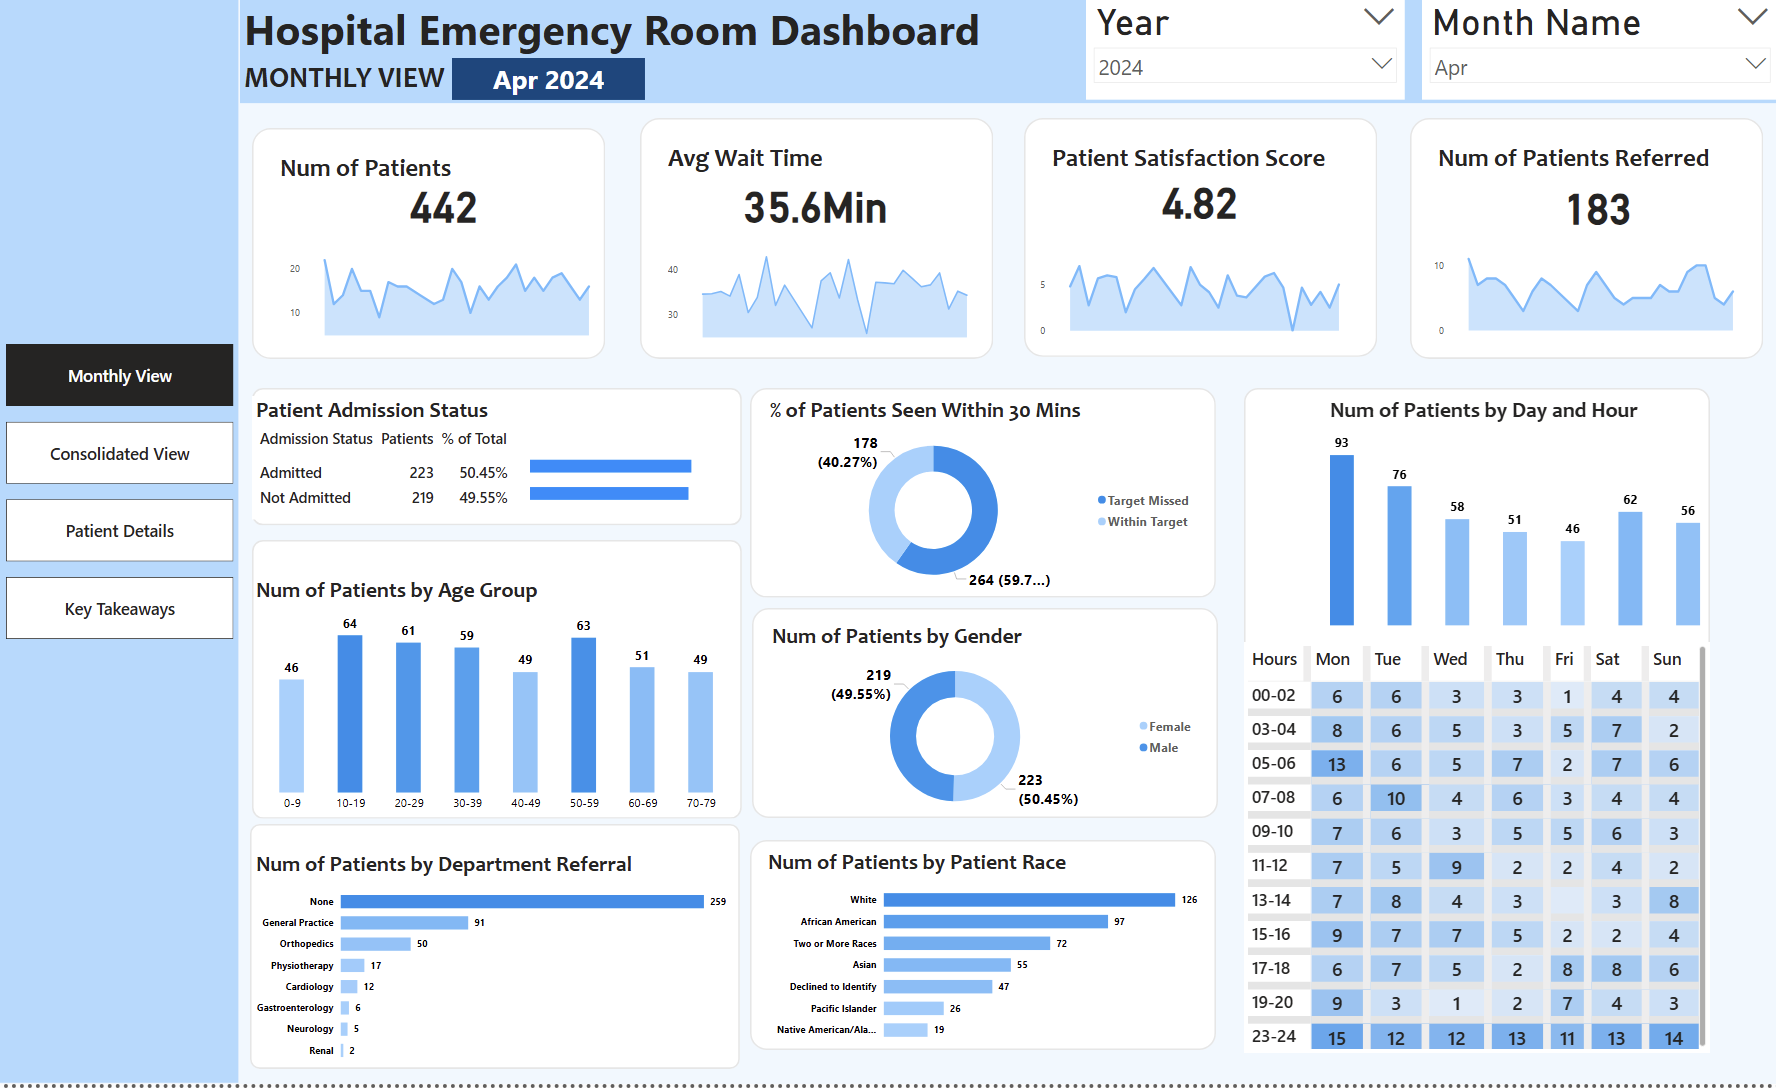

This screenshot's page, from the dashboard's own definition file:
{"tool":"powerbi","page":{"name":"Monthly View","canvas":[2300,1400],"ordinal":0},"visuals":[{"type":"shape","box":[8.7,0,310,1399.7],"z":0},{"type":"shape","box":[320.5,0,1979.5,138.5],"z":1000},{"type":"textbox","box":[320.5,0,1038.5,138.5],"z":2000},{"type":"textbox","box":[320.5,76.9,305.1,56.4],"z":3000},{"type":"shape","box":[335.9,169.2,455,297.4],"z":4000},{"type":"card","fields":{"Values":["Hospital ER_Data.Num of Patients"]},"box":[474.4,207.7,215.4,112.8],"z":5000},{"type":"slicer","fields":{"Values":["Date Table.Year"]},"box":[1407.7,0,410.3,133.3],"z":6000},{"type":"slicer","fields":{"Values":["Date Table.Month Name"]},"box":[1841,0,459,133.3],"z":7000},{"type":"textbox","box":[366.7,194.9,282.1,71.8],"z":8000},{"type":"areaChart","fields":{"Category":["Date Table.Date.Variation.Date Hierarchy.Day"],"Y":["Hospital ER_Data.Num of Patients"]},"box":[379.5,310.3,405.1,133.3],"z":9000},{"type":"card","fields":{"Values":["Min(Date Table.Month & Year)"]},"box":[592.3,79.5,248.7,53.8],"z":10000},{"type":"shape","box":[833.3,156.4,455,310.3],"z":11000},{"type":"card","fields":{"Values":["Hospital ER_Data.Avg Wait Time"]},"box":[953.8,207.7,215.4,112.8],"z":12000},{"type":"areaChart","fields":{"Category":["Date Table.Date.Variation.Date Hierarchy.Day"],"Y":["Avg(Hospital ER_Data.Patient Waittime)"]},"box":[866.7,310.3,405.1,135.9],"z":13000},{"type":"textbox","box":[866.4,183.1,282.1,71.8],"z":14000},{"type":"shape","box":[1329.5,156.4,455,307.7],"z":15000},{"type":"card","fields":{"Values":["Hospital ER_Data.Satisfaction Score"]},"box":[1448.7,202.6,215.4,112.8],"z":16000},{"type":"textbox","box":[1359,182.1,389.7,71.8],"z":17000},{"type":"areaChart","fields":{"Category":["Date Table.Date.Variation.Date Hierarchy.Day"],"Y":["Hospital ER_Data.Satisfaction Score"]},"box":[1343.6,323.1,405.1,123.1],"z":18000},{"type":"shape","box":[1825.6,156.4,455,310.3],"z":19000},{"type":"card","fields":{"Values":["Hospital ER_Data.Num of Patients Referred"]},"box":[1959,210.3,215.4,112.8],"z":20000},{"type":"textbox","box":[1856.4,182.1,417.9,71.8],"z":21000},{"type":"shape","box":[335.9,505.1,630.8,176.9],"z":22000},{"type":"areaChart","fields":{"Category":["Date Table.Date.Variation.Date Hierarchy.Day"],"Y":["Hospital ER_Data.Num of Patients Referred"]},"box":[1851.3,292.3,405.1,153.8],"z":23000},{"type":"pivotTable","title":"Patient Admission Status","fields":{"Rows":["Hospital ER_Data.Admission Status"],"Values":["Hospital ER_Data.Num of Patients1","Hospital ER_Data.Num of Patients"]},"box":[335.9,515.4,351.3,159],"z":24000},{"type":"barChart","title":"Num of Patients by Admission Status","fields":{"Category":["Hospital ER_Data.Admission Status"],"Y":["Hospital ER_Data.Num of Patients"],"Series":["Hospital ER_Data.Admission Status"]},"box":[687.2,566.7,289.7,107.7],"z":25000},{"type":"shape","box":[335.9,700,630.8,359],"z":26000},{"type":"shape","box":[333.3,1066.7,630.8,315.4],"z":27000},{"type":"clusteredColumnChart","fields":{"Category":["Hospital ER_Data.Age Group"],"Y":["Hospital ER_Data.Num of Patients"]},"box":[335.9,746.2,630.8,312.8],"z":28000},{"type":"clusteredBarChart","fields":{"Category":["Hospital ER_Data.Department Referral"],"Y":["Hospital ER_Data.Num of Patients"]},"box":[334.8,1099.8,618.1,283.3],"z":29000},{"type":"shape","box":[976.9,505.1,600,270],"z":30000},{"type":"donutChart","title":"% of Patients Seen Within 30 Mins","fields":{"Category":["Hospital ER_Data.Waittime Status"],"Y":["Hospital ER_Data.Num of Patients"]},"box":[996.8,515.1,558.9,260.1],"z":31000},{"type":"shape","box":[978.7,788.1,600.1,270.4],"z":32000},{"type":"donutChart","title":"Num of Patients by Gender","fields":{"Category":["Hospital ER_Data.Patient Gender"],"Y":["Hospital ER_Data.Num of Patients"]},"box":[999.3,806.2,558.9,260.1],"z":33000},{"type":"shape","box":[976.1,1086.9,600.1,270.4],"z":34000},{"type":"clusteredBarChart","fields":{"Y":["Hospital ER_Data.Num of Patients"],"Category":["Hospital ER_Data.Patient Race"]},"box":[994.2,1097.2,564.1,260.1],"z":35000},{"type":"shape","box":[1612.3,504.8,600.1,852.5],"z":36000},{"type":"pivotTable","fields":{"Rows":["Hospital ER_Data.Waittime Interval"],"Columns":["Date Table.Day Name"],"Values":["Hospital ER_Data.Num of Patients"]},"box":[1612.3,831.9,600.1,528],"z":37000},{"type":"columnChart","title":"Num of Patients by Day and Hour","fields":{"Category":["Date Table.Day Name"],"Y":["Hospital ER_Data.Num of Patients"]},"box":[1717.9,515.1,489.4,301.3],"z":38000},{"type":"pageNavigator","box":[18,448.2,293.6,383.8],"z":38001}]}

Visuals, with their boxes in screenshot pixels (x1, y1, x2, y2), scaled from the page's 2300x1400 canvas onto the 1776x1088 screenshot:
shape: region(7, 0, 246, 1087)
shape: region(247, 0, 1775, 108)
textbox: region(247, 0, 1049, 108)
textbox: region(247, 60, 483, 104)
shape: region(259, 131, 611, 363)
card - Hospital ER_Data.Num of Patients: region(366, 161, 533, 249)
slicer - Date Table.Year: region(1087, 0, 1404, 104)
slicer - Date Table.Month Name: region(1422, 0, 1775, 104)
textbox: region(283, 151, 501, 207)
areaChart - Date Table.Date.Variation.Date Hierarchy.Day x Hospital ER_Data.Num of Patients: region(293, 241, 606, 345)
card - Min(Date Table.Month & Year): region(457, 62, 649, 104)
shape: region(643, 122, 995, 363)
card - Hospital ER_Data.Avg Wait Time: region(736, 161, 903, 249)
areaChart - Date Table.Date.Variation.Date Hierarchy.Day x Avg(Hospital ER_Data.Patient Waittime): region(669, 241, 982, 347)
textbox: region(669, 142, 887, 198)
shape: region(1027, 122, 1378, 361)
card - Hospital ER_Data.Satisfaction Score: region(1119, 157, 1285, 245)
textbox: region(1049, 142, 1350, 197)
areaChart - Date Table.Date.Variation.Date Hierarchy.Day x Hospital ER_Data.Satisfaction Score: region(1037, 251, 1350, 347)
shape: region(1410, 122, 1761, 363)
card - Hospital ER_Data.Num of Patients Referred: region(1513, 163, 1679, 251)
textbox: region(1433, 142, 1756, 197)
shape: region(259, 393, 746, 530)
areaChart - Date Table.Date.Variation.Date Hierarchy.Day x Hospital ER_Data.Num of Patients Referred: region(1430, 227, 1742, 347)
"Patient Admission Status" pivotTable: region(259, 401, 531, 524)
"Num of Patients by Admission Status" barChart: region(531, 440, 754, 524)
shape: region(259, 544, 746, 823)
shape: region(257, 829, 744, 1074)
clusteredColumnChart - Hospital ER_Data.Age Group x Hospital ER_Data.Num of Patients: region(259, 580, 746, 823)
clusteredBarChart - Hospital ER_Data.Department Referral x Hospital ER_Data.Num of Patients: region(259, 855, 736, 1075)
shape: region(754, 393, 1218, 602)
"% of Patients Seen Within 30 Mins" donutChart: region(770, 400, 1201, 602)
shape: region(756, 612, 1219, 823)
"Num of Patients by Gender" donutChart: region(772, 627, 1203, 829)
shape: region(754, 845, 1217, 1055)
clusteredBarChart - Hospital ER_Data.Num of Patients x Hospital ER_Data.Patient Race: region(768, 853, 1203, 1055)
shape: region(1245, 392, 1708, 1055)
pivotTable - Hospital ER_Data.Waittime Interval x Date Table.Day Name: region(1245, 647, 1708, 1057)
"Num of Patients by Day and Hour" columnChart: region(1327, 400, 1704, 634)
pageNavigator: region(14, 348, 241, 647)
